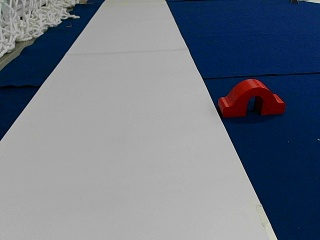bridge: (219, 79, 283, 114)
